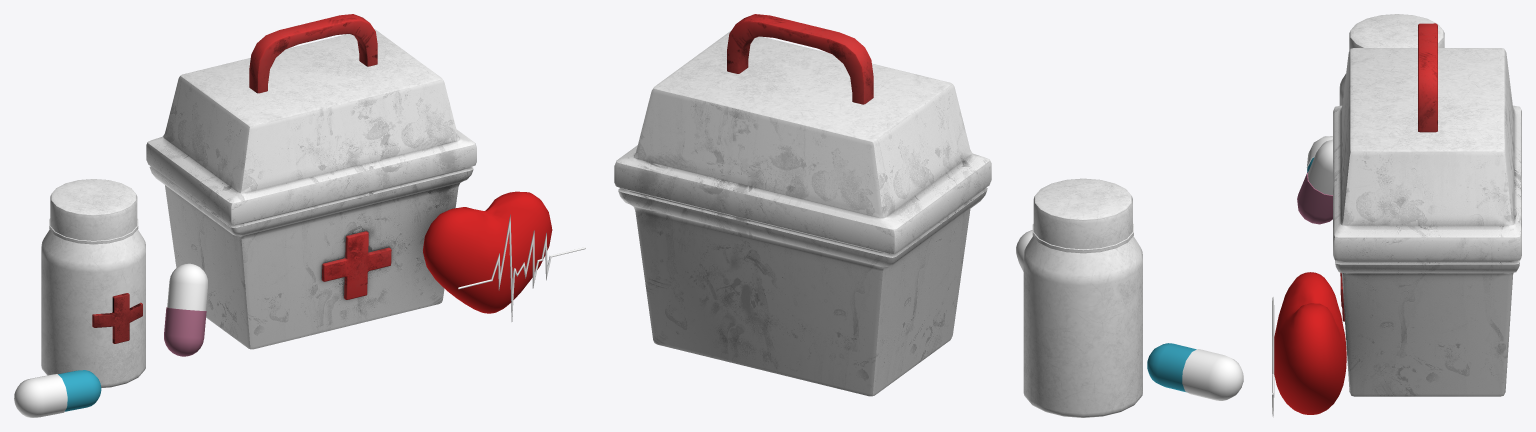
The picture shows the model from 3 angles, left to right: view 1: azimuth 30°, elevation 25°; view 2: azimuth 150°, elevation 25°; view 3: azimuth 270°, elevation 25°; orthographic projection. The views are drawn at different scales.
Parts seen in each view (by area): view 1: Kit_box_Plastic_White_0, Medicine, Heart_Red_Material_0, Kit_box_Red_Material_0, Capsule_Pink_Material #130_0, Capsule_Blue_Material #73_0, Capsule_Blue_Material #130_0, Heart_Capsule_White_0, Capsule_Pink_Material #118_0; view 2: Kit_box_Plastic_White_0, Medicine, Kit_box_Red_Material_0, Capsule_Pink_Material #130_0, Capsule_Pink_Material #118_0; view 3: Kit_box_Plastic_White_0, Heart_Red_Material_0, Medicine, Kit_box_Red_Material_0, Capsule_Blue_Material #73_0, Capsule_Blue_Material #130_0, Heart_Capsule_White_0, Capsule_Pink_Material #130_0.
Part boxes in pixels (x1,y1,x2,y2): Kit_box_Plastic_White_0: [146, 29, 476, 349]; Medicine: [41, 179, 145, 387]; Heart_Red_Material_0: [423, 191, 552, 313]; Kit_box_Red_Material_0: [249, 14, 391, 299]; Capsule_Pink_Material #130_0: [14, 374, 67, 417]; Capsule_Blue_Material #73_0: [164, 307, 206, 356]; Capsule_Blue_Material #130_0: [167, 263, 207, 310]; Heart_Capsule_White_0: [458, 214, 585, 321]; Capsule_Pink_Material #118_0: [58, 370, 101, 411]; Kit_box_Plastic_White_0: [614, 31, 991, 396]; Medicine: [1023, 178, 1142, 417]; Kit_box_Red_Material_0: [727, 14, 873, 104]; Capsule_Pink_Material #130_0: [1182, 349, 1243, 400]; Capsule_Pink_Material #118_0: [1147, 343, 1196, 392]; Kit_box_Plastic_White_0: [1333, 48, 1521, 396]; Heart_Red_Material_0: [1274, 272, 1346, 414]; Medicine: [1339, 14, 1444, 105]; Kit_box_Red_Material_0: [1340, 23, 1437, 321]; Capsule_Blue_Material #73_0: [1297, 172, 1332, 224]; Capsule_Blue_Material #130_0: [1307, 139, 1332, 195]; Heart_Capsule_White_0: [1272, 297, 1274, 417]; Capsule_Pink_Material #130_0: [1306, 136, 1332, 170].
Size of the model in its own units: 0.6849 by 0.3379 by 0.2492.
